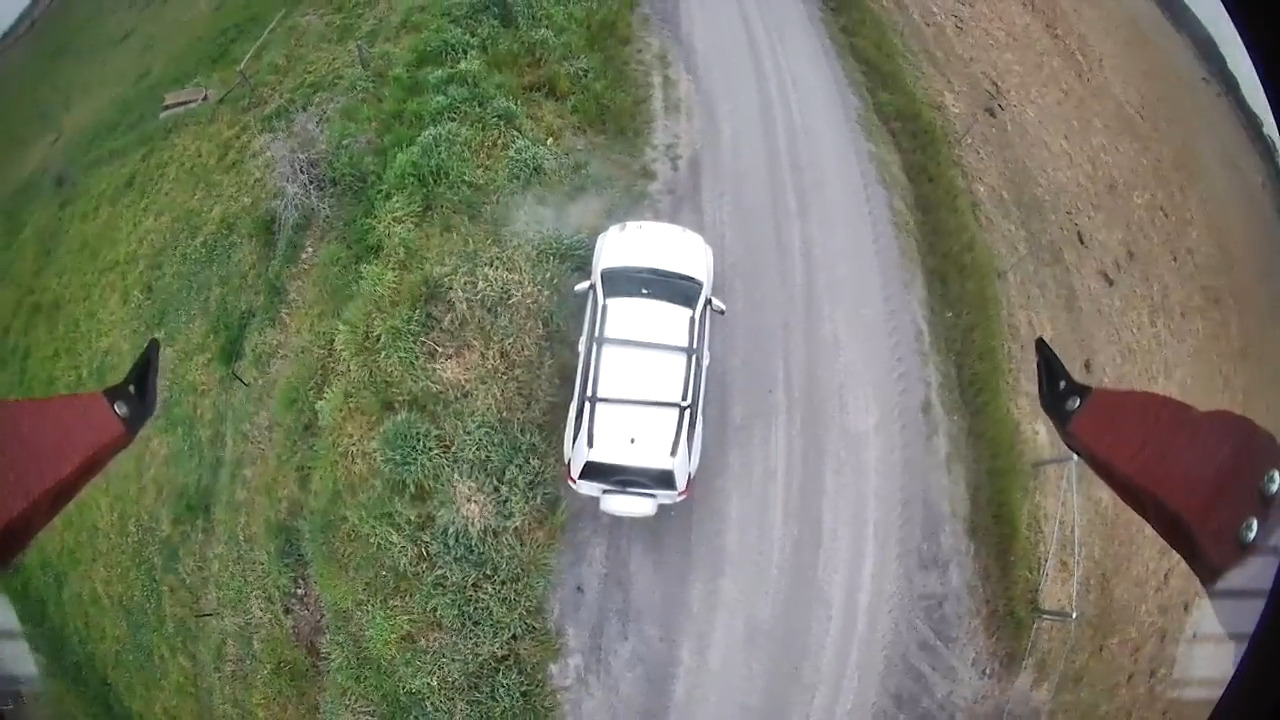Car: (563, 222, 725, 516)
